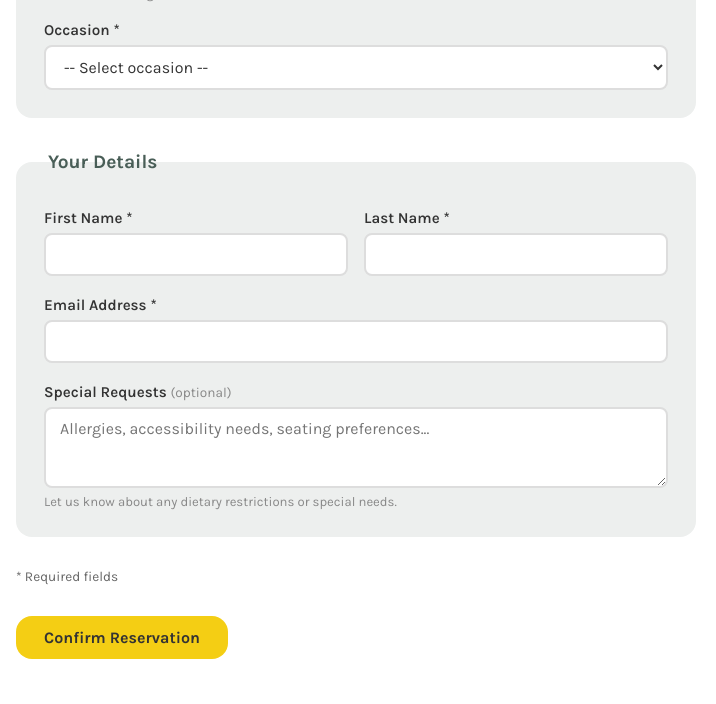
BookingPage component › shows validation errors when submitting empty form
(page scrolled)
Click the button "Confirm Reservation" at [122, 638], box x1=16 y1=616 x2=228 y2=659
(page scrolled)
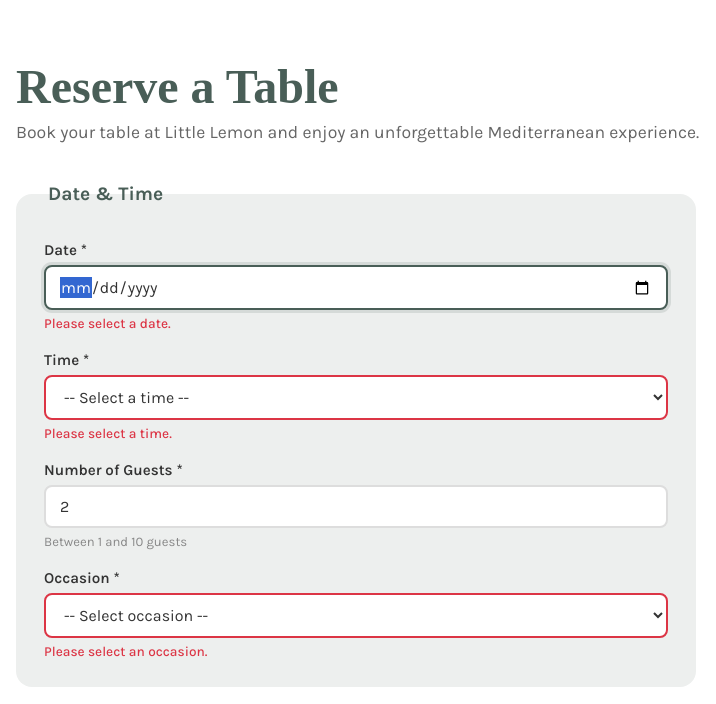
Result: the text "Please select a date." is shown at x1=44 y1=316 x2=171 y2=331
